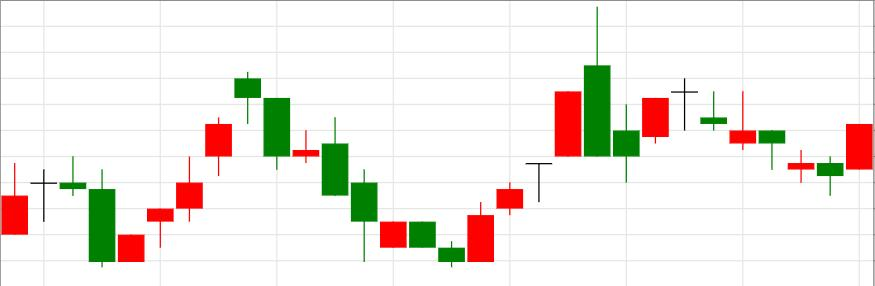bearish_engulfing_fall: (438, 6, 612, 267)
